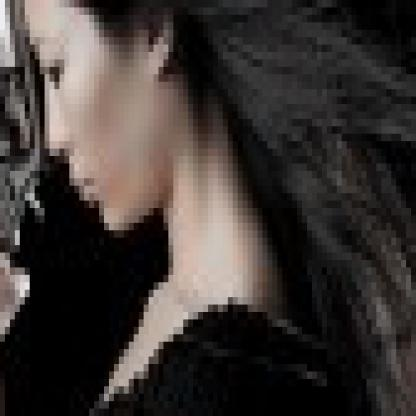gun: (0, 0, 55, 320)
